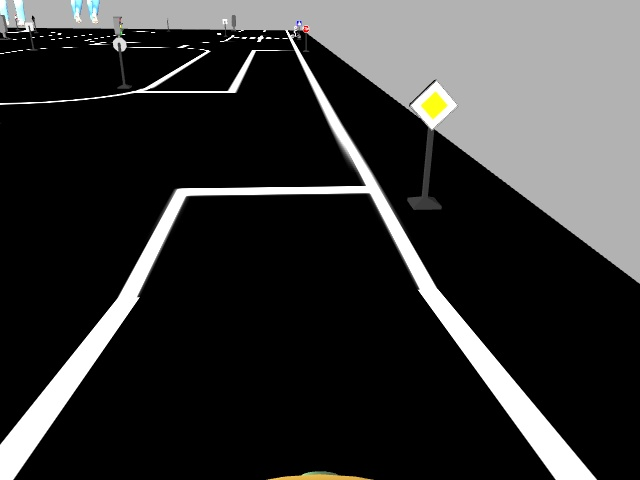Priority: (411, 78, 459, 130)
